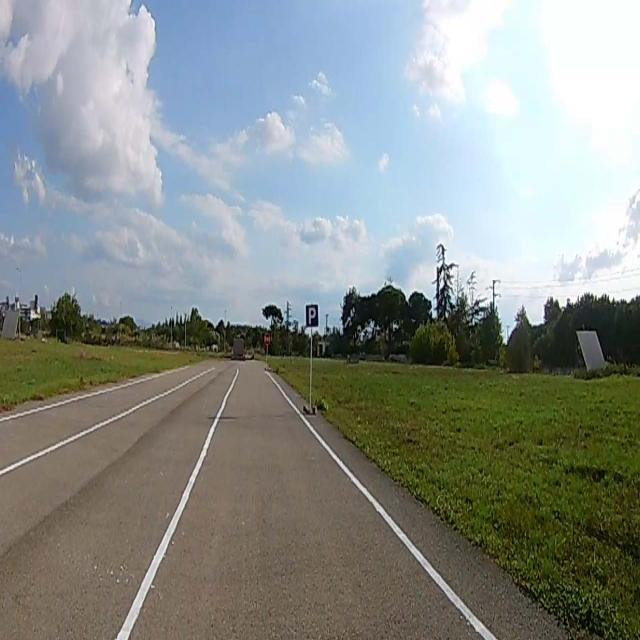park: (306, 304, 318, 327)
